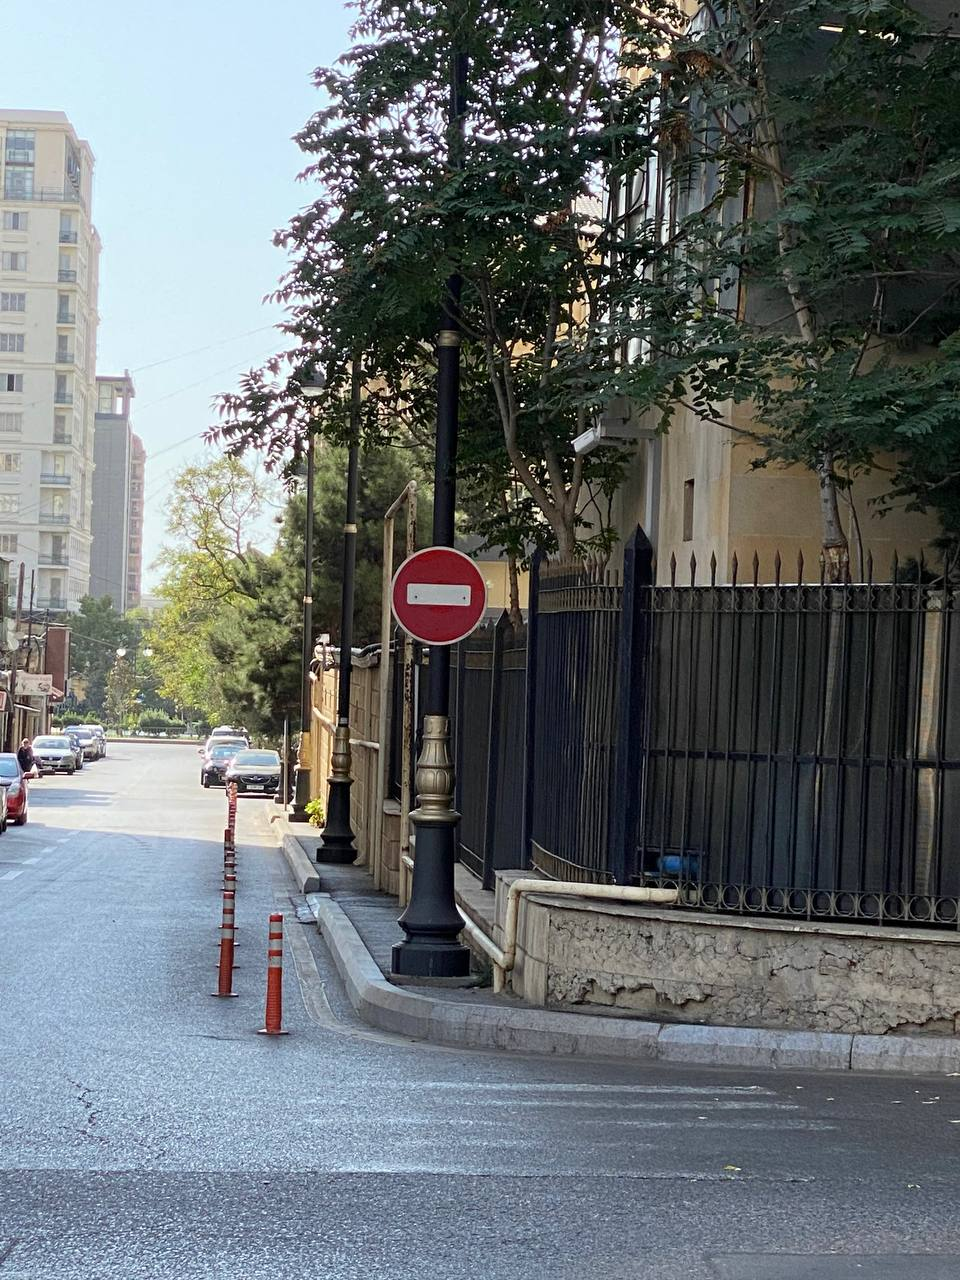No Entry: (389, 545, 487, 645)
